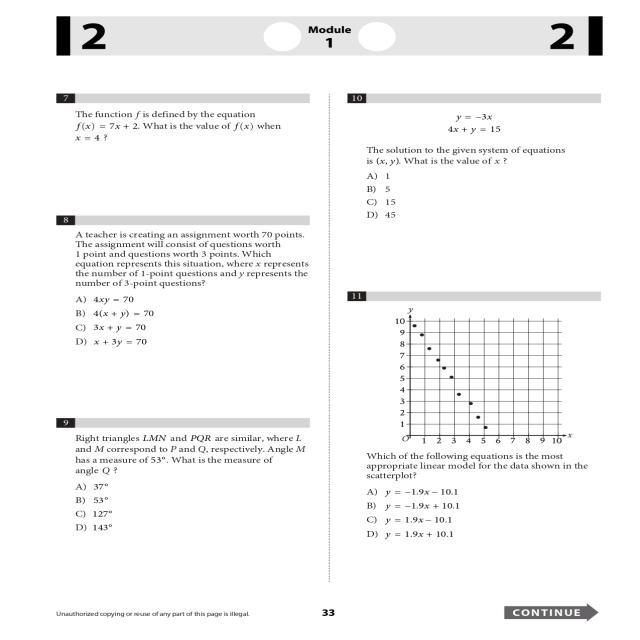Answer_Block: (336, 484, 606, 580), (52, 292, 322, 363), (336, 168, 606, 233), (52, 476, 322, 539)
Question_Answer_Block: (336, 289, 606, 580), (52, 418, 322, 581), (52, 215, 322, 363), (336, 87, 606, 233), (52, 86, 322, 170)
Question_Block: (336, 288, 606, 486), (52, 86, 322, 170), (336, 86, 606, 166), (52, 214, 322, 293), (52, 417, 322, 477)
Question_Paper_Area: (52, 86, 322, 582), (336, 87, 606, 580)
